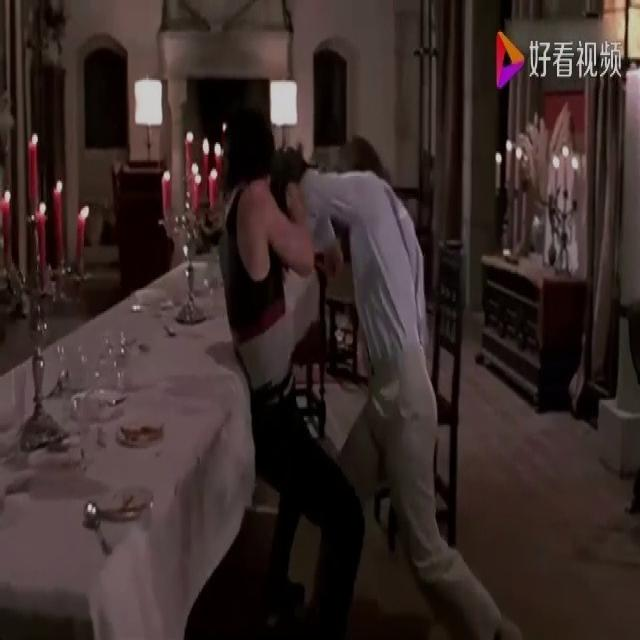fight: (210, 90, 530, 640)
